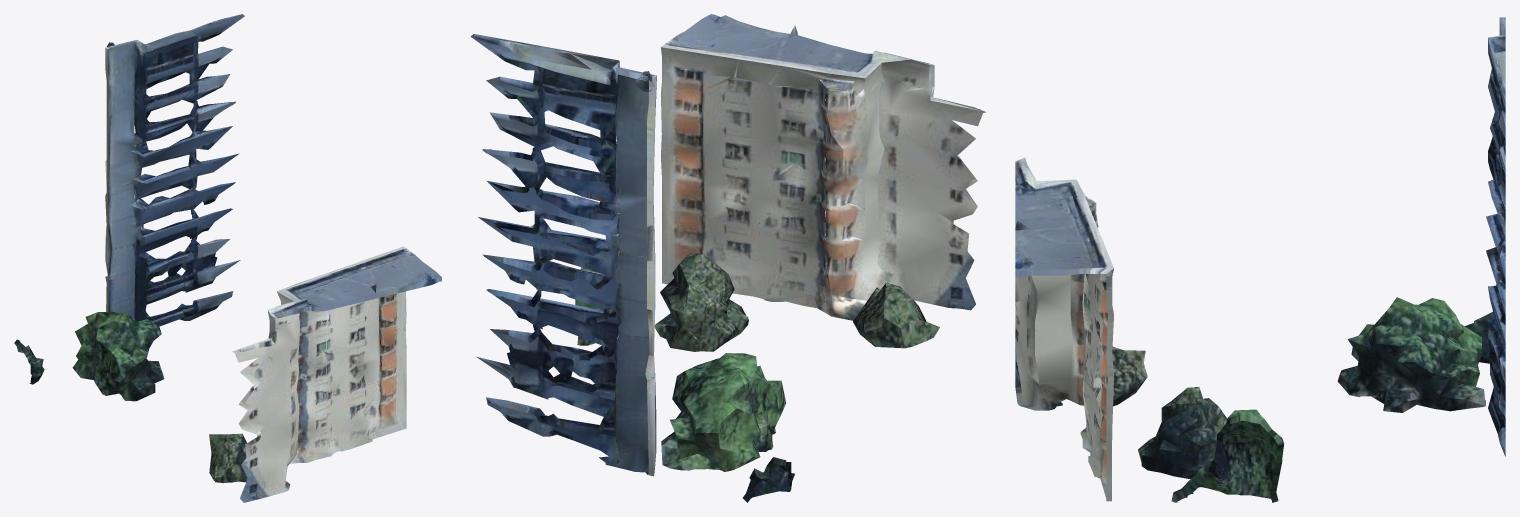
3 renders of one model, left to right at view 1: azimuth 30°, elevation 25°; view 2: azimuth 150°, elevation 25°; view 3: azimuth 270°, elevation 25°, orthographic. The views are drawn at different scales.
Parts seen in each view (by area): view 1: 30436272704361405617_0; view 2: 30436272704361405617_0; view 3: 30436272704361405617_0.
Boxes of the visible parts, bbox=[...] form: 30436272704361405617_0: bbox=[14, 14, 441, 502]; 30436272704361405617_0: bbox=[470, 14, 986, 502]; 30436272704361405617_0: bbox=[1015, 17, 1505, 502].
Size of the model in its own units: 27.93 by 34.51 by 38.26.
Materials: 1 (1 with a texture image).
